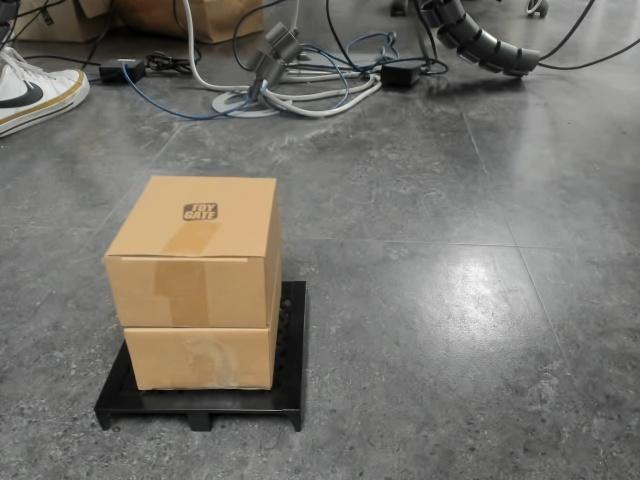box: (95, 173, 313, 436)
